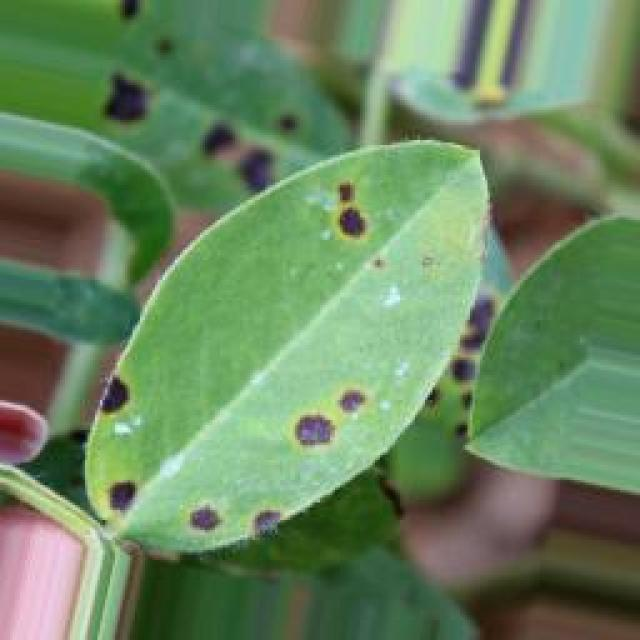Early_leaf_spot: (87, 338, 163, 512), (443, 281, 528, 432), (83, 0, 178, 132), (268, 359, 383, 458), (193, 87, 293, 200), (177, 485, 291, 563), (320, 161, 380, 263)
